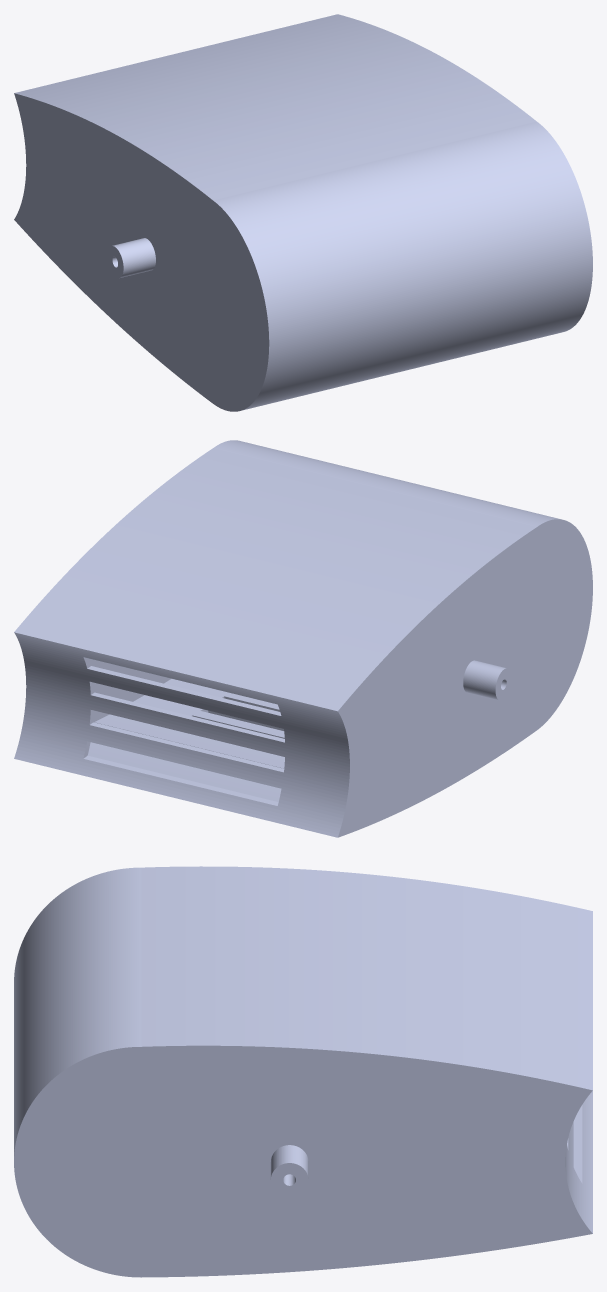
The model's file is chasis.dae.
3 views of the same model, one above another, from view 1: azimuth 30°, elevation 25°; view 2: azimuth 150°, elevation 25°; view 3: azimuth 270°, elevation 25° (orthographic). The views are drawn at different scales.
Visible parts, largest first — view 1: 5eb4aef548a574135cddb51c; view 2: 5eb4aef548a574135cddb51c; view 3: 5eb4aef548a574135cddb51c.
Boxes of the visible parts, x1,y1,x2,y2 form: 5eb4aef548a574135cddb51c: (14, 14, 592, 411); 5eb4aef548a574135cddb51c: (14, 440, 592, 837); 5eb4aef548a574135cddb51c: (14, 866, 592, 1277).
Size of the model in its own units: 0.6 by 0.6826 by 0.3015.
